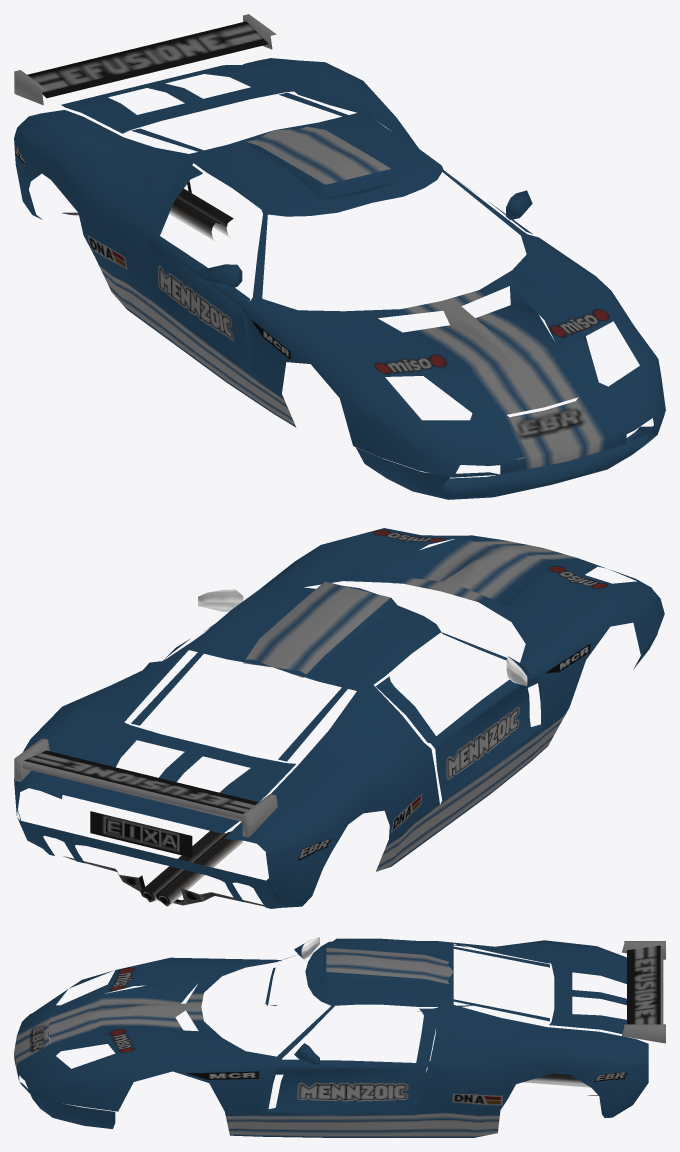
Rendered from car-MSCL_Car8.glb.
The picture shows the model from 3 angles, top to bottom: view 1: azimuth 30°, elevation 25°; view 2: azimuth 150°, elevation 25°; view 3: azimuth 270°, elevation 25°; orthographic projection. The views are drawn at different scales.
Parts seen in each view (by area): view 1: MSCL_Car8; view 2: MSCL_Car8; view 3: MSCL_Car8.
Boxes of the visible parts, x1,y1,x2,y2 form: MSCL_Car8: [14, 14, 665, 499]; MSCL_Car8: [14, 528, 664, 908]; MSCL_Car8: [14, 937, 665, 1137].
Size of the model in its own units: 2.01 by 1.01 by 4.59.
Materials: 6 (6 with a texture image).
